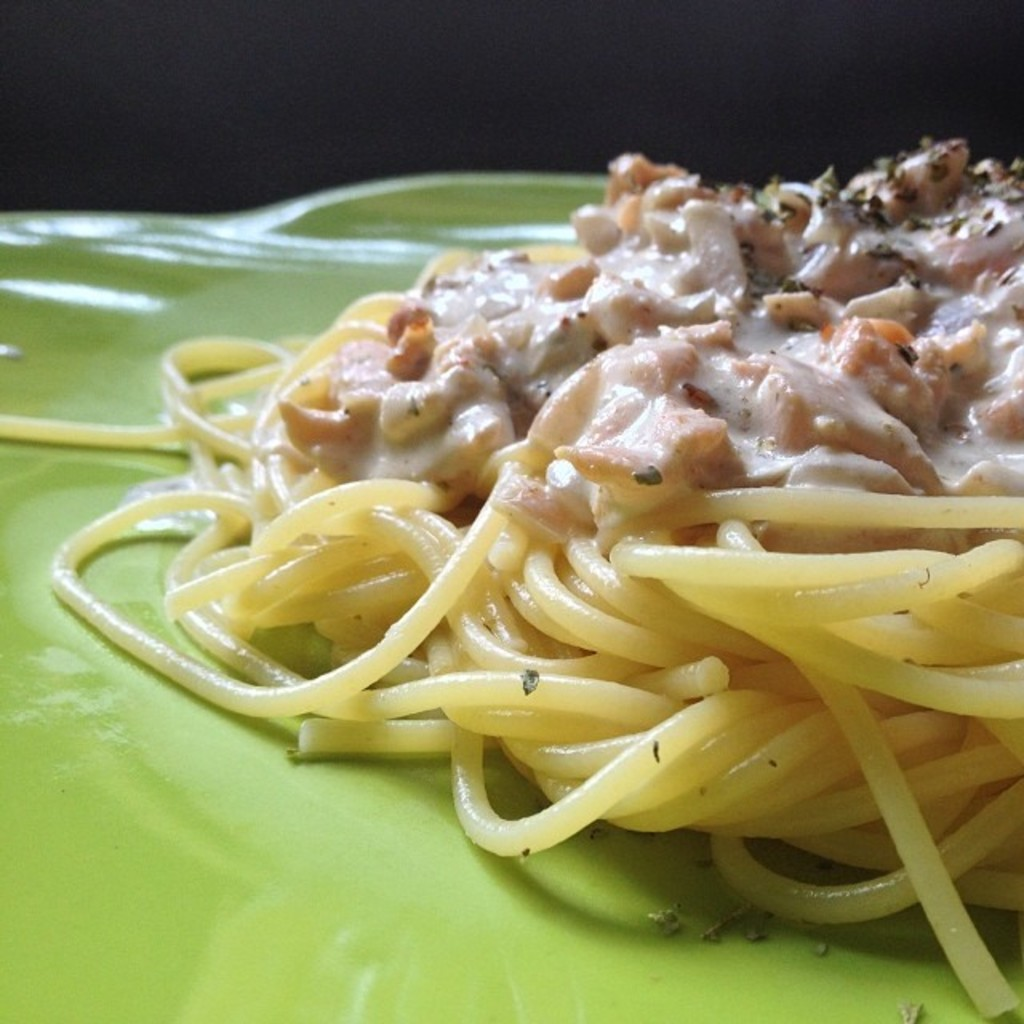pasta: (78, 133, 1003, 933)
